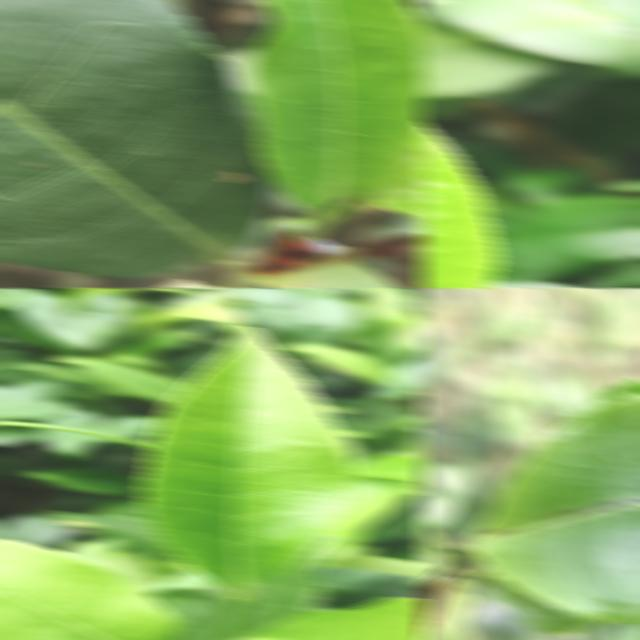Leaf: (0, 0, 272, 275), (139, 327, 353, 587), (459, 385, 640, 622), (247, 0, 426, 210), (0, 538, 184, 640), (418, 0, 640, 76), (418, 122, 500, 288), (490, 194, 640, 279), (418, 15, 558, 98), (50, 355, 189, 404), (280, 342, 393, 384), (260, 260, 403, 288), (141, 301, 247, 331), (387, 318, 426, 351)
